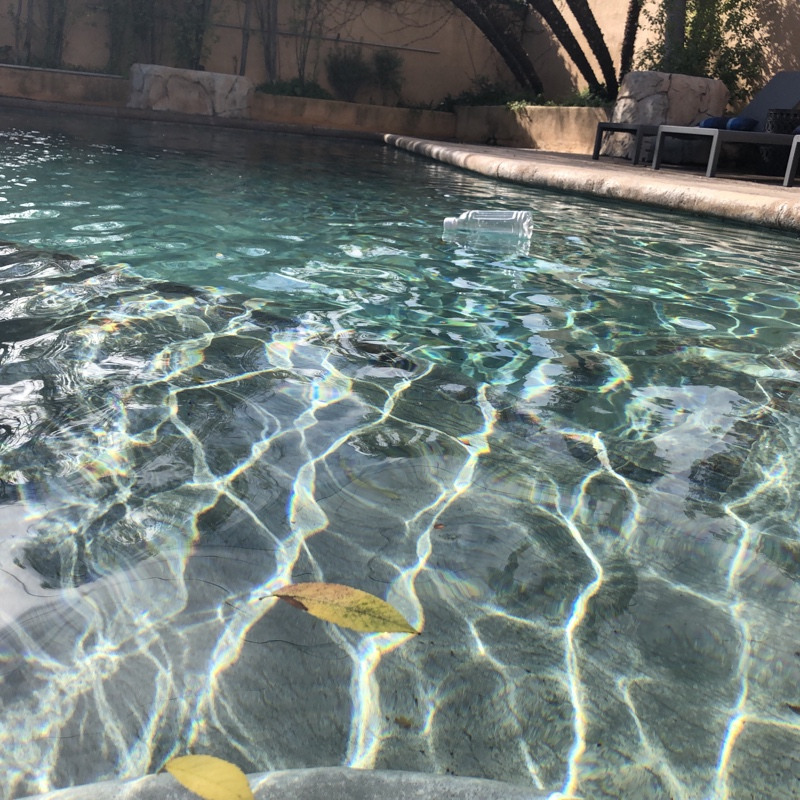Plastic Bottle: (437, 203, 538, 254)
